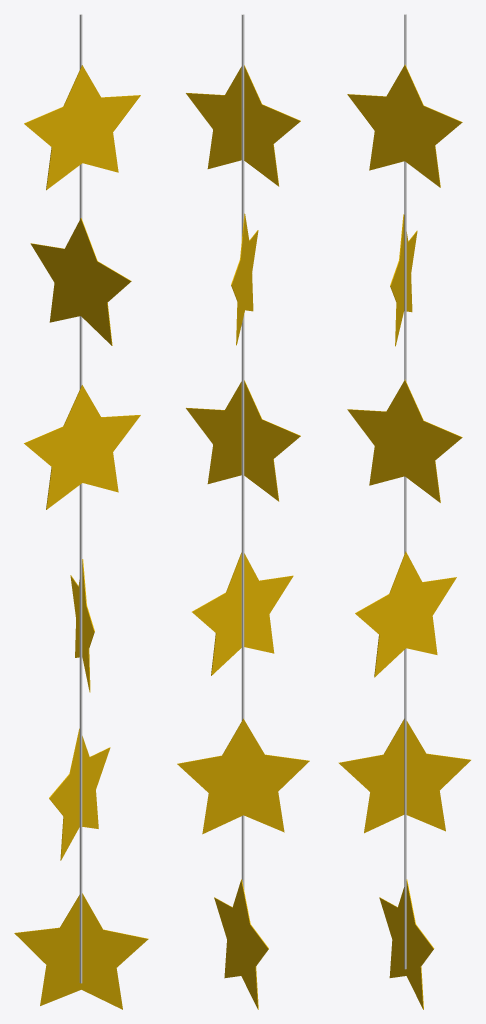
The model's file is PartyHangings01C_1.FBX.
3 renders of one model, left to right at view 1: azimuth 30°, elevation 25°; view 2: azimuth 150°, elevation 25°; view 3: azimuth 330°, elevation 25°, orthographic.
Parts seen in each view (by area): view 1: PartyHangings01C_1; view 2: PartyHangings01C_1; view 3: PartyHangings01C_1.
Boxes of the visible parts, x1,y1,x2,y2 form: PartyHangings01C_1: (14, 14, 148, 1009); PartyHangings01C_1: (177, 14, 309, 1009); PartyHangings01C_1: (338, 14, 470, 1009).
Size of what is drawn, in the model's own units: 0.0841 by 0.6827 by 0.08.
